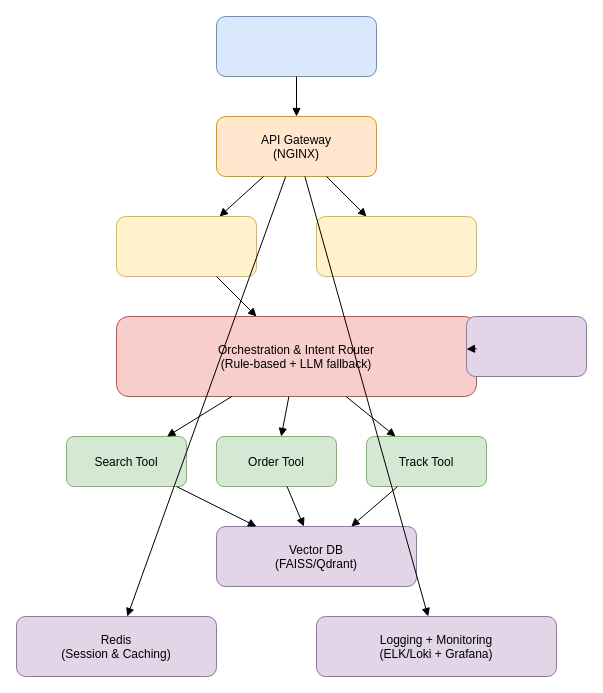
Some shapes in this 603 by 693 pixel diagram are drawn without their labels. The shapes that lost their labels are listed below. From the top down, each one's centre as x and y in pixels, then its label:
At [296,46]: "Ionic + Angular Frontend".
At [186,246]: "Chat API (Node.js)".
At [396,246]: "Auth + Rate Limiter".
At [526,346]: "GPT-4 API".
